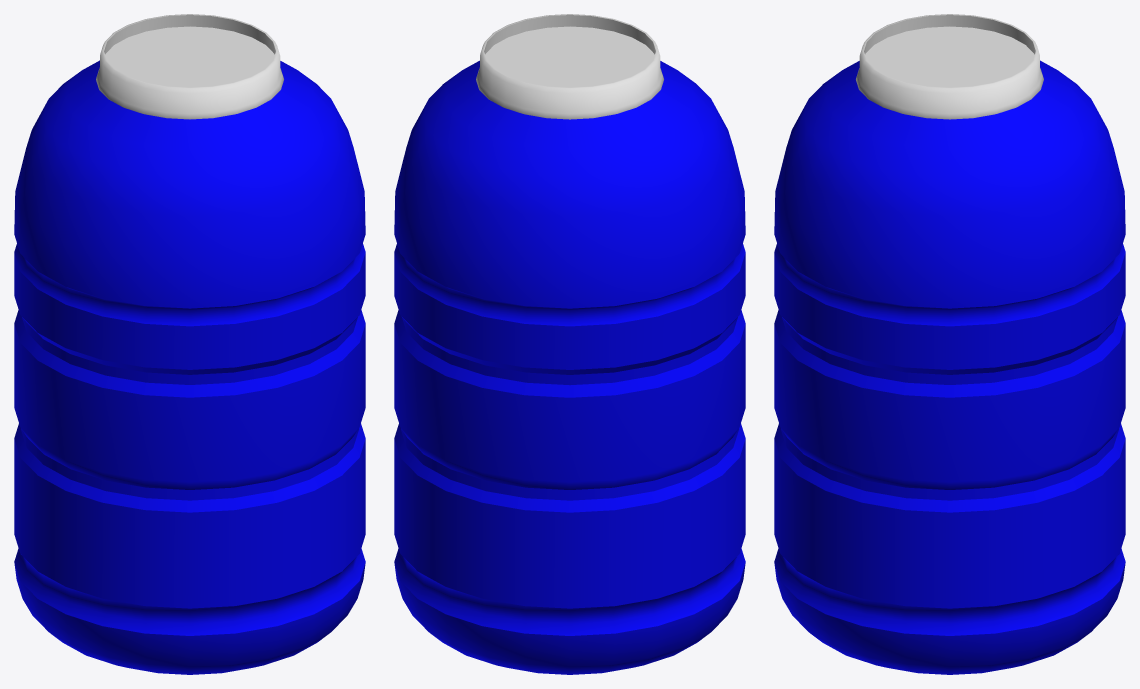
The model's file is SM_BarrelBlue.FBX.
3 renders of one model, left to right at view 1: azimuth 30°, elevation 25°; view 2: azimuth 150°, elevation 25°; view 3: azimuth 270°, elevation 25°, orthographic.
Visible parts, largest first — view 1: SM_BarrelBlue_LOD0; view 2: SM_BarrelBlue_LOD0; view 3: SM_BarrelBlue_LOD0.
Boxes of the visible parts, x1,y1,x2,y2 form: SM_BarrelBlue_LOD0: (14,14,365,674); SM_BarrelBlue_LOD0: (394,14,745,674); SM_BarrelBlue_LOD0: (774,14,1125,674).
Size of what is drawn, in the model's own units: 42 by 75.32 by 42.01.
